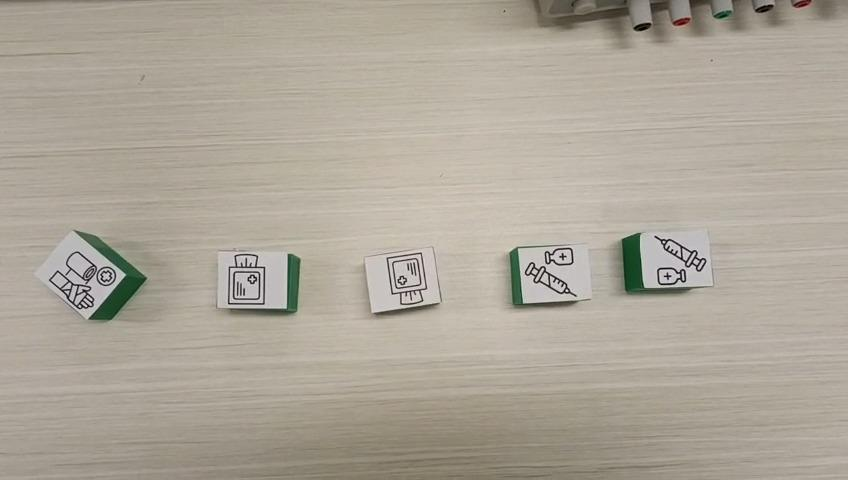Bandages: (31, 229, 146, 321)
Gauze: (362, 244, 443, 313), (217, 252, 300, 317)
antiseptic cream: (620, 227, 716, 293), (507, 242, 593, 305)
